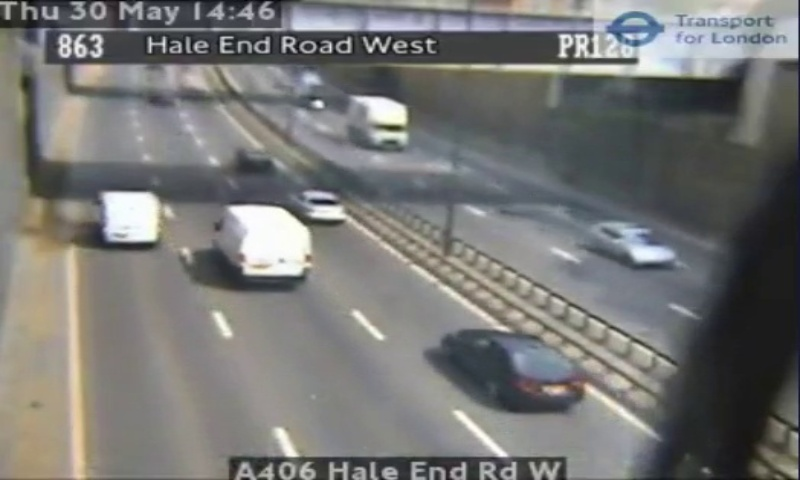car: (441, 329, 586, 407), (287, 190, 348, 221)
van: (216, 205, 314, 285), (96, 189, 160, 245)
